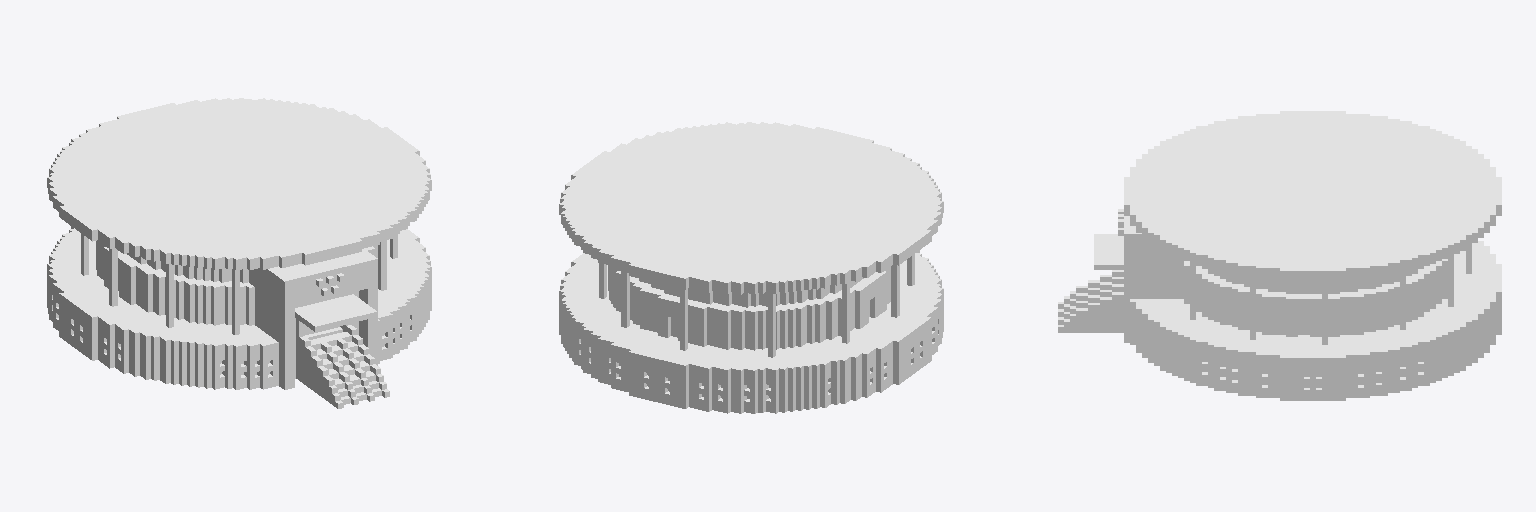
Rendered from GYM.obj.
3 views of the same model, side by side, from view 1: azimuth 30°, elevation 25°; view 2: azimuth 150°, elevation 25°; view 3: azimuth 270°, elevation 25° (orthographic).
Bounding box in the file's own units: 63 × 24 × 74.